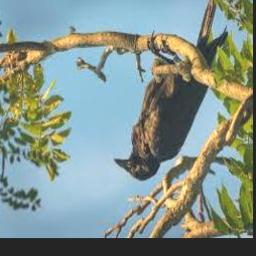Crow: (114, 0, 228, 181)
